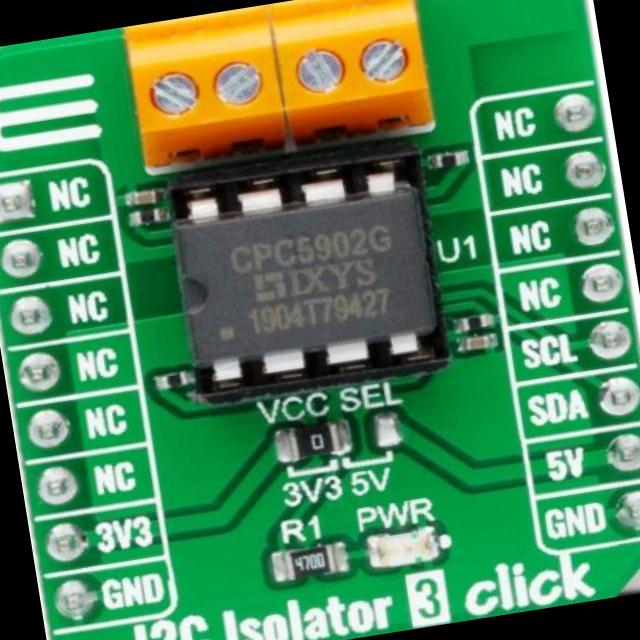IC: (168, 153, 452, 404)
LED: (368, 524, 442, 572)
capacitor: (464, 334, 501, 356), (130, 189, 160, 208)
connector: (120, 5, 288, 169), (266, 0, 437, 152)
resistor: (275, 541, 344, 585), (282, 424, 346, 464), (134, 208, 166, 230), (458, 314, 489, 334), (436, 153, 464, 174), (158, 373, 190, 389)
